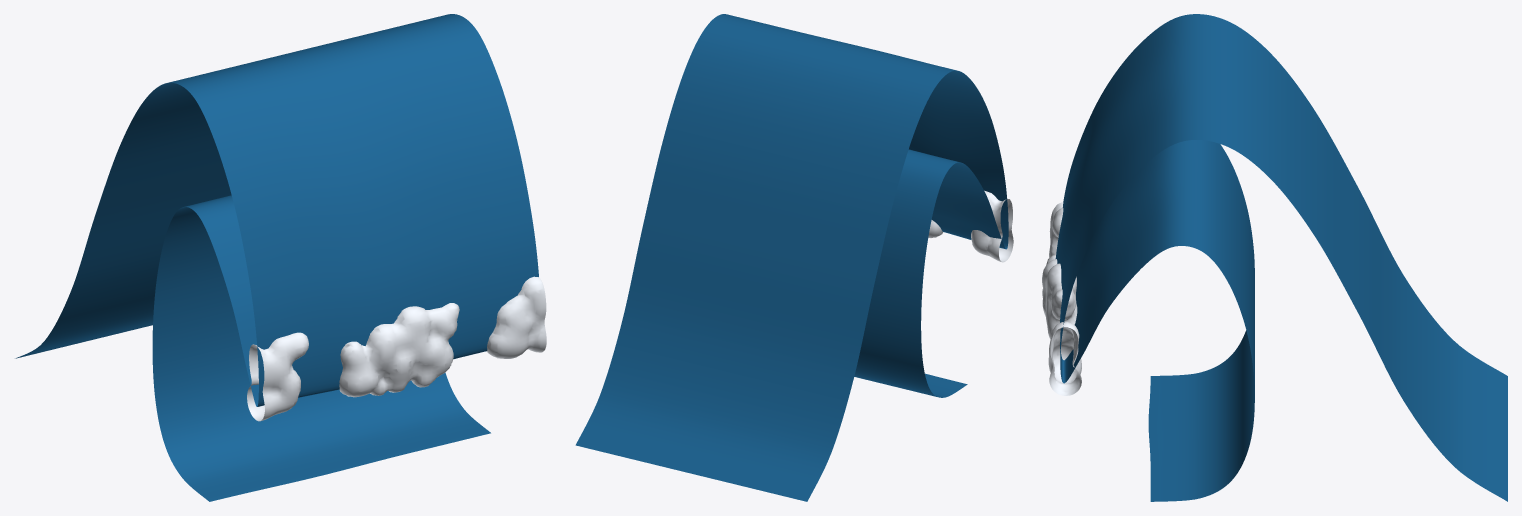
The model's file is wave_tile_2.obj.
3 views of the same model, side by side, from view 1: azimuth 30°, elevation 25°; view 2: azimuth 150°, elevation 25°; view 3: azimuth 270°, elevation 25° (orthographic). The views are drawn at different scales.
Visible parts, largest first — view 1: wave_body_2, wave_foam_2; view 2: wave_body_2, wave_foam_2; view 3: wave_body_2, wave_foam_2.
Boxes of the visible parts, x1=… form: wave_body_2: x1=15, y1=14, x2=538, y2=501; wave_foam_2: x1=247, y1=276, x2=546, y2=421; wave_body_2: x1=575, y1=14, x2=1008, y2=501; wave_foam_2: x1=928, y1=190, x2=1013, y2=262; wave_body_2: x1=1055, y1=14, x2=1507, y2=501; wave_foam_2: x1=1042, y1=202, x2=1081, y2=395.
Bounding box in the file's own units: 3 × 4.03 × 4.69.
